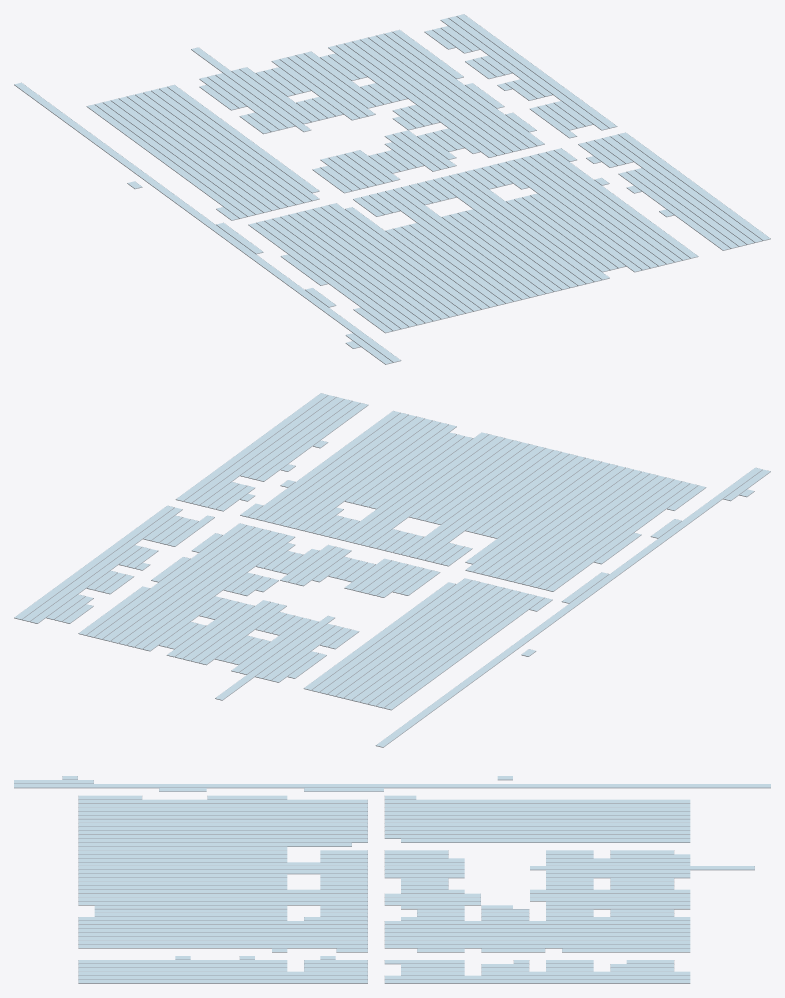
Rendered from SM_MPR4_SolarBank_01_0_LOD1.fbx.
The picture shows the model from 3 angles, top to bottom: view 1: azimuth 30°, elevation 25°; view 2: azimuth 150°, elevation 25°; view 3: azimuth 270°, elevation 25°; orthographic projection.
Visible parts, largest first — view 1: SM_MPR4_SolarBank_01_0_LOD1; view 2: SM_MPR4_SolarBank_01_0_LOD1; view 3: SM_MPR4_SolarBank_01_0_LOD1.
Boxes of the visible parts, x1,y1,x2,y2 form: SM_MPR4_SolarBank_01_0_LOD1: (14, 14, 770, 364); SM_MPR4_SolarBank_01_0_LOD1: (14, 393, 770, 747); SM_MPR4_SolarBank_01_0_LOD1: (14, 776, 770, 983).
Bounding box in the file's own units: 5929 × 9157 × 8.6.
